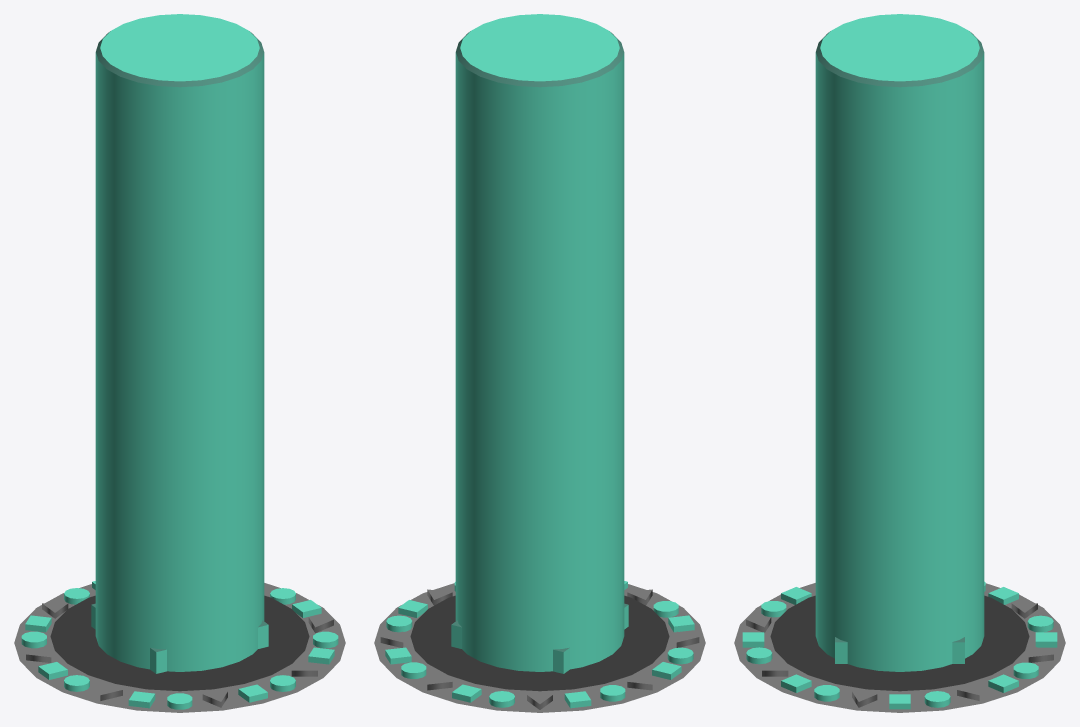
The model's file is base_circle_square_objects.fbx.
3 renders of one model, left to right at view 1: azimuth 30°, elevation 25°; view 2: azimuth 150°, elevation 25°; view 3: azimuth 270°, elevation 25°, orthographic.
Visible parts, largest first — view 1: tube_circle, PT_square_circle, plateau_circle, tube_circle001, tube_square001; view 2: tube_circle, PT_square_circle, plateau_circle, tube_circle001, tube_square001; view 3: tube_circle, PT_square_circle, plateau_circle, tube_circle001, tube_square001.
Boxes of the visible parts, x1,y1,x2,y2 form: tube_circle: (95, 14, 264, 671); PT_square_circle: (14, 581, 345, 712); plateau_circle: (50, 595, 309, 691); tube_circle001: (95, 611, 264, 671); tube_square001: (91, 603, 268, 673); tube_circle: (455, 14, 624, 671); PT_square_circle: (374, 581, 705, 712); plateau_circle: (410, 595, 669, 691); tube_circle001: (455, 611, 623, 671); tube_square001: (451, 603, 628, 673); tube_circle: (815, 14, 984, 671); PT_square_circle: (734, 581, 1065, 712); plateau_circle: (770, 595, 1029, 691); tube_circle001: (815, 611, 984, 671); tube_square001: (835, 637, 964, 663).
Size of the model in its own units: 30.13 by 30.13 by 59.68.
